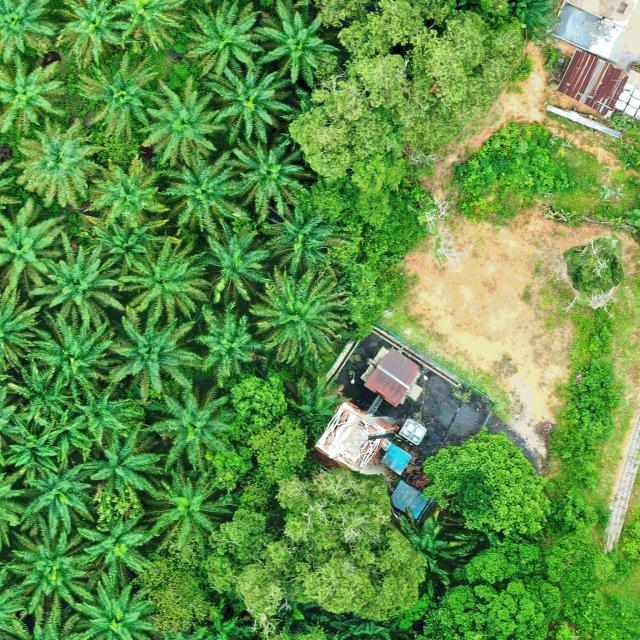0: (1, 514, 97, 626), (130, 462, 234, 560), (247, 268, 349, 366), (105, 312, 205, 409), (11, 117, 108, 213), (157, 143, 253, 230), (26, 244, 126, 327), (138, 76, 226, 170), (76, 48, 162, 144), (207, 53, 300, 141), (115, 237, 209, 324), (29, 312, 120, 399), (225, 131, 314, 214), (255, 0, 337, 90), (82, 154, 172, 234), (70, 565, 164, 640), (152, 380, 233, 462), (260, 196, 345, 274), (196, 217, 270, 306), (182, 0, 263, 80), (0, 45, 69, 137), (80, 413, 160, 492), (17, 457, 95, 537), (397, 506, 465, 588), (74, 511, 156, 578), (0, 206, 59, 297), (48, 0, 131, 62), (194, 308, 261, 382), (91, 220, 166, 281), (2, 414, 65, 484), (32, 403, 101, 463), (72, 380, 130, 436), (283, 369, 338, 424)
tree: (287, 0, 523, 180), (232, 466, 428, 638), (415, 536, 564, 640), (422, 426, 549, 536)
